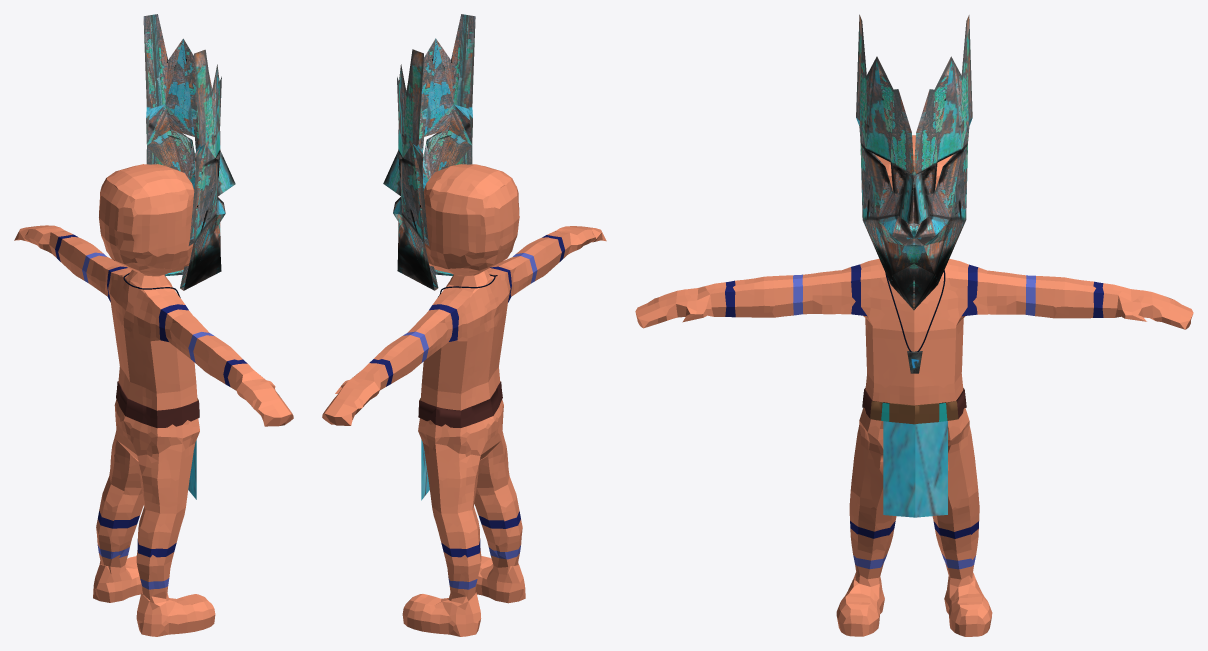
The model's file is NPC_Shaman.obj.
3 renders of one model, left to right at view 1: azimuth 30°, elevation 25°; view 2: azimuth 150°, elevation 25°; view 3: azimuth 270°, elevation 25°, orthographic. The views are drawn at different scales.
Parts seen in each view (by area): view 1: Humanoide_Base_Humanoide_Base_Base_NPC__characterMedium, Cylinder.002; view 2: Humanoide_Base_Humanoide_Base_Base_NPC__characterMedium, Cylinder.002; view 3: Humanoide_Base_Humanoide_Base_Base_NPC__characterMedium, Cylinder.002, Taparrabos_Plane.001.
Part boxes in pixels (x1,y1,x2,y2): Humanoide_Base_Humanoide_Base_Base_NPC__characterMedium: [14, 164, 293, 636]; Cylinder.002: [143, 14, 235, 290]; Humanoide_Base_Humanoide_Base_Base_NPC__characterMedium: [322, 164, 606, 636]; Cylinder.002: [383, 14, 475, 290]; Humanoide_Base_Humanoide_Base_Base_NPC__characterMedium: [635, 135, 1193, 636]; Cylinder.002: [856, 14, 972, 310]; Taparrabos_Plane.001: [883, 421, 947, 517].
Size of the model in its own units: 11.51 by 49.41 by 40.71.
3 materials, 3 textured.
